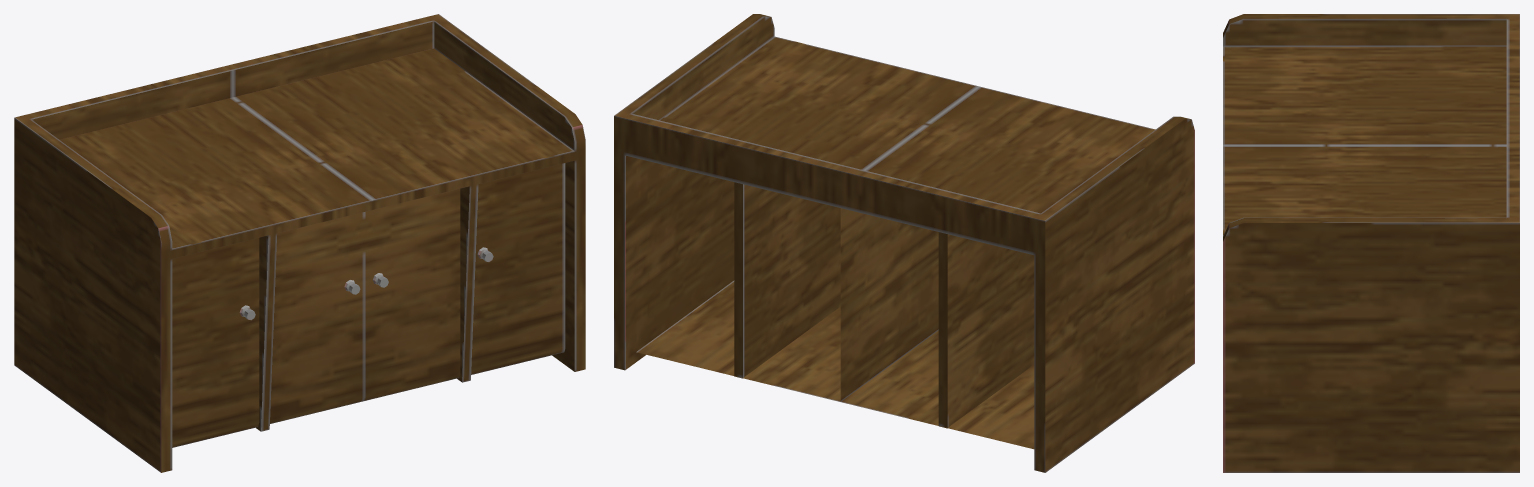
Rendered from dresser.glb.
The picture shows the model from 3 angles, left to right: view 1: azimuth 30°, elevation 25°; view 2: azimuth 150°, elevation 25°; view 3: azimuth 270°, elevation 25°; orthographic projection.
Visible parts, largest first — view 1: dresser; view 2: dresser; view 3: dresser.
Part boxes in pixels (x1,y1,x2,y2): dresser: [14, 14, 585, 472]; dresser: [614, 14, 1194, 472]; dresser: [1223, 14, 1519, 472].
Bounding box in the file's own units: 2 × 1.12 × 1.2.
Materials: 1 (1 with a texture image).
